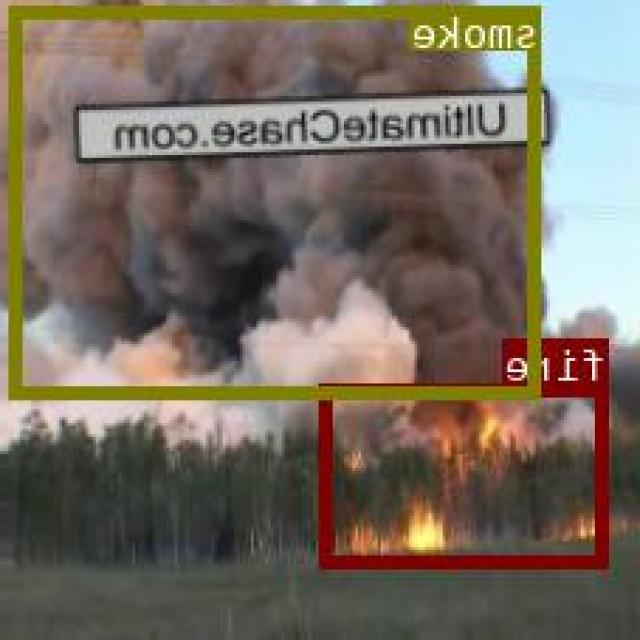fire: (323, 383, 610, 566)
smoke: (13, 5, 542, 396)
